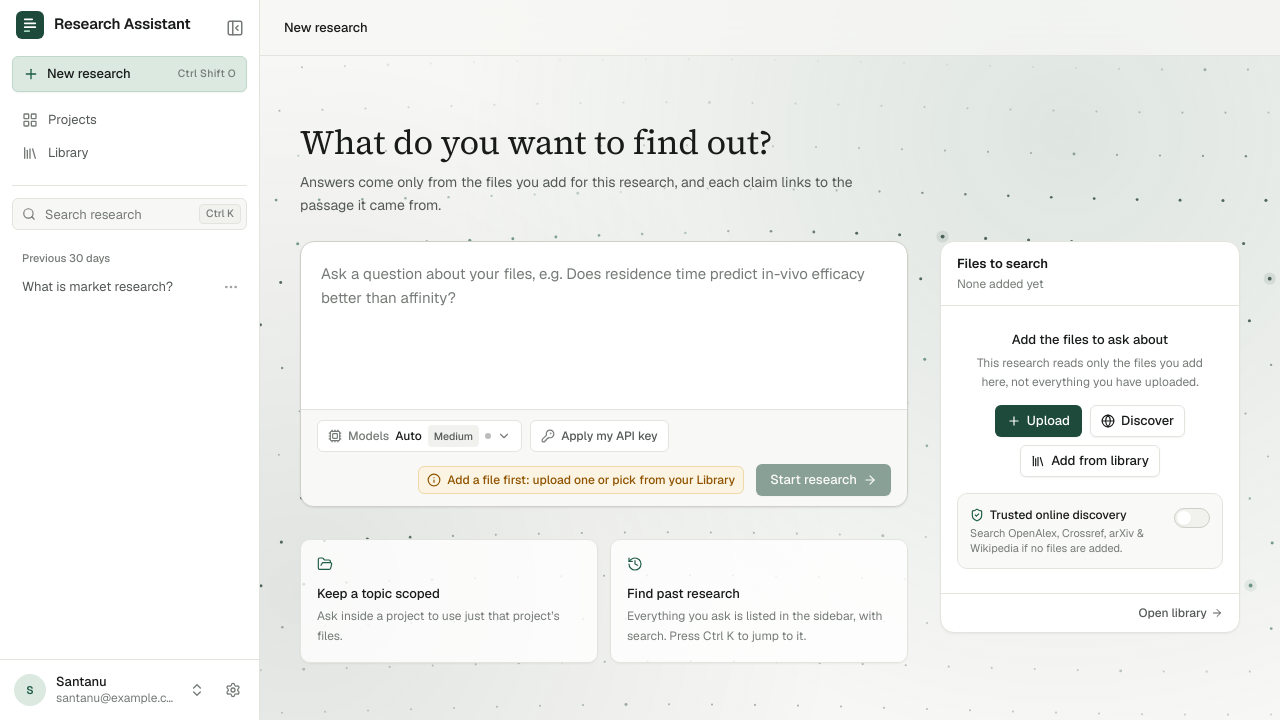
Scenario: Workspace navigation and state stability › keeps sidebar mounted without skeletons or redundant refetches when switching routes and returning
The width and height of the screenshot is (1280, 720).
Expected: the text "What is market research?" is shown, [22,278,173,295]
Expected: the button "Add from library" is shown, [1020,445,1160,477]
Navigate away to Projects — sidebar and research history must remain mounted without refetching.
Click the link "Projects": (59, 120) [22,111,97,128]
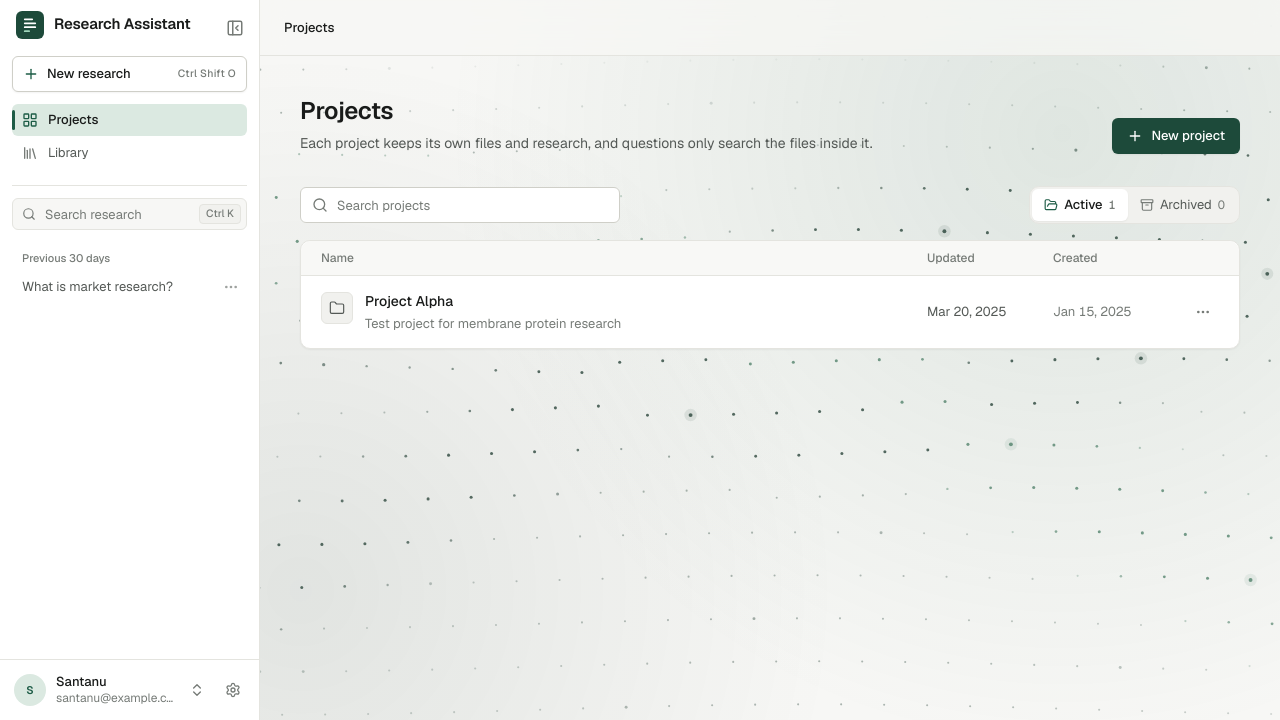
Expected: the text "What is market research?" is shown, [22,278,173,295]
Now the heading "Project Alpha" is shown, box [365,290,453,312]
Navigate back to New research — cached docs and models render immediately with no "Loading…" skeleton.
Click the link "New research Ctrl Shift O": (130, 74) [12,56,247,92]
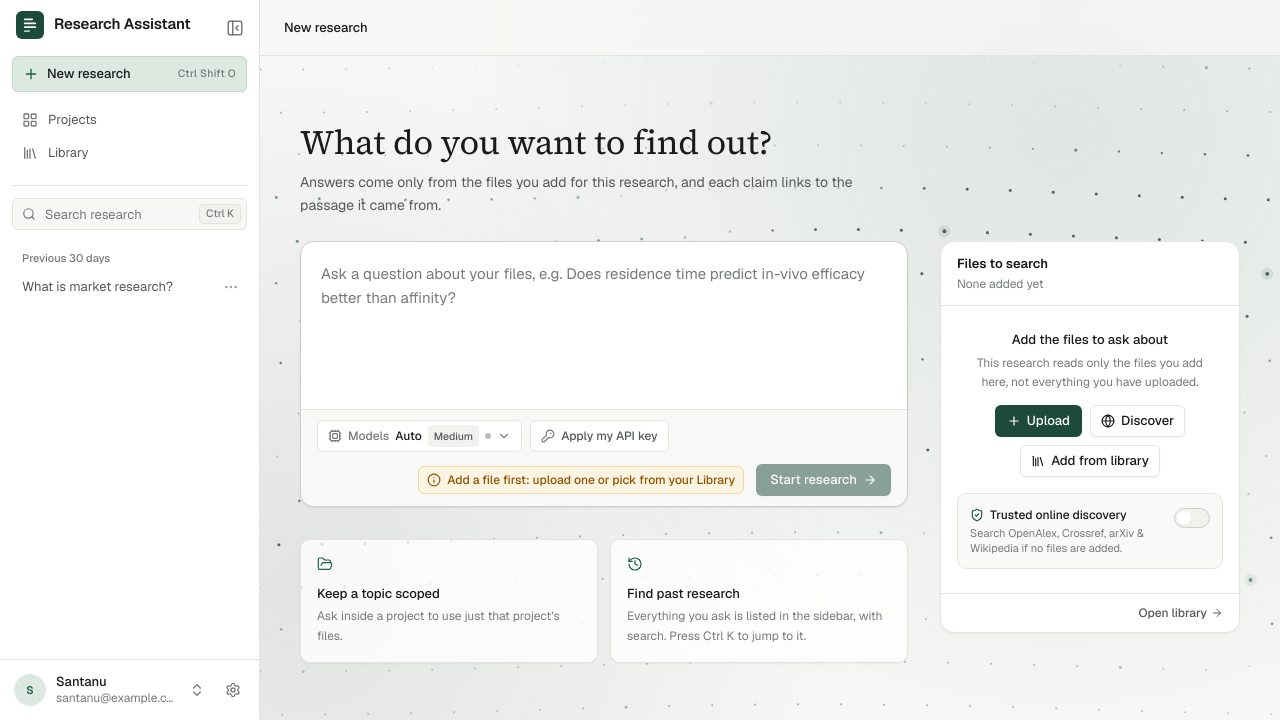
Now the button "Add from library" is shown, box [1020,445,1160,477]
